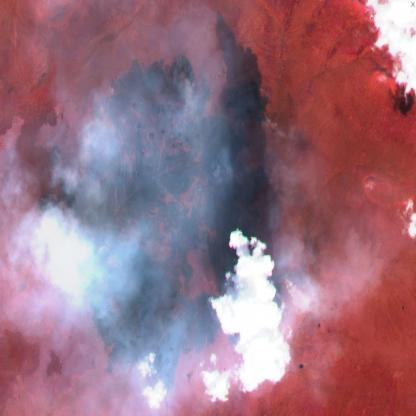fire: (34, 47, 287, 295)
